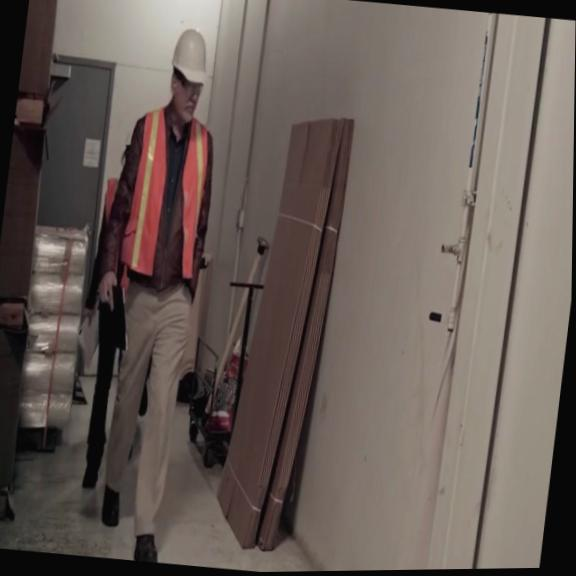safety_vest: (120, 107, 218, 283), (94, 174, 129, 287)
